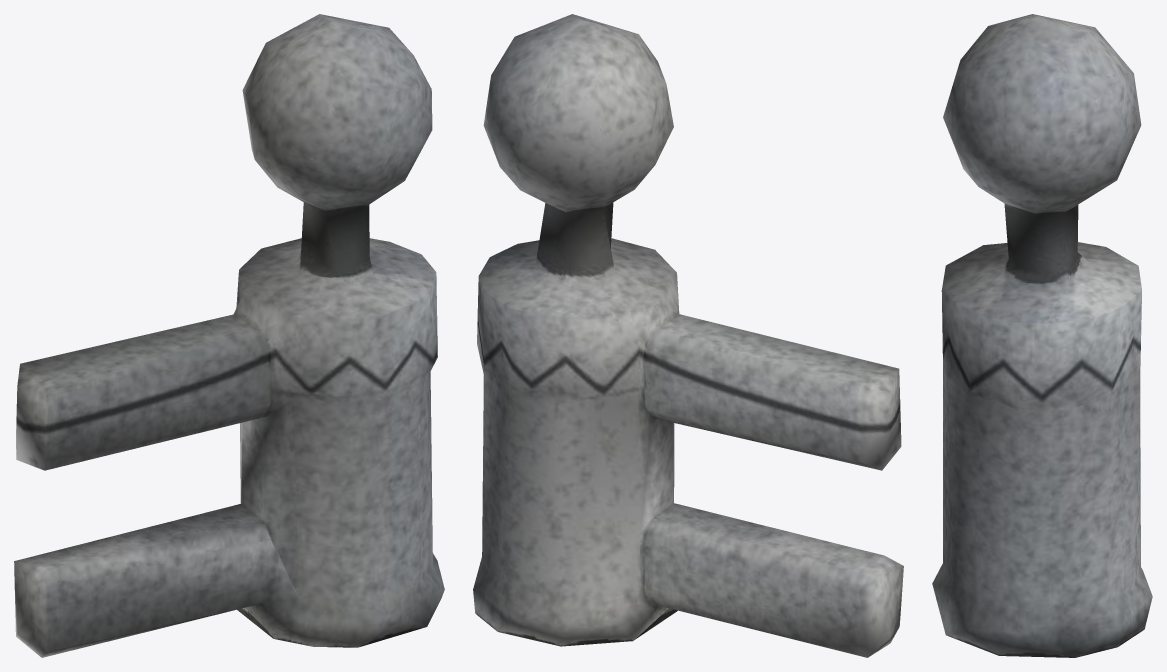
The model's file is balustrade_end_e_far.glb.
The picture shows the model from 3 angles, left to right: view 1: azimuth 30°, elevation 25°; view 2: azimuth 150°, elevation 25°; view 3: azimuth 270°, elevation 25°; orthographic projection. The views are drawn at different scales.
Parts seen in each view (by area): view 1: balustrade_end_e_lod1; view 2: balustrade_end_e_lod1; view 3: balustrade_end_e_lod1.
Boxes of the visible parts, x1,y1,x2,y2 form: balustrade_end_e_lod1: (14,14,444,657); balustrade_end_e_lod1: (473,14,903,657); balustrade_end_e_lod1: (932,14,1152,657).
Bounding box in the file's own units: 0.6594 × 0.8997 × 0.302.
Materials: 1 (1 with a texture image).
